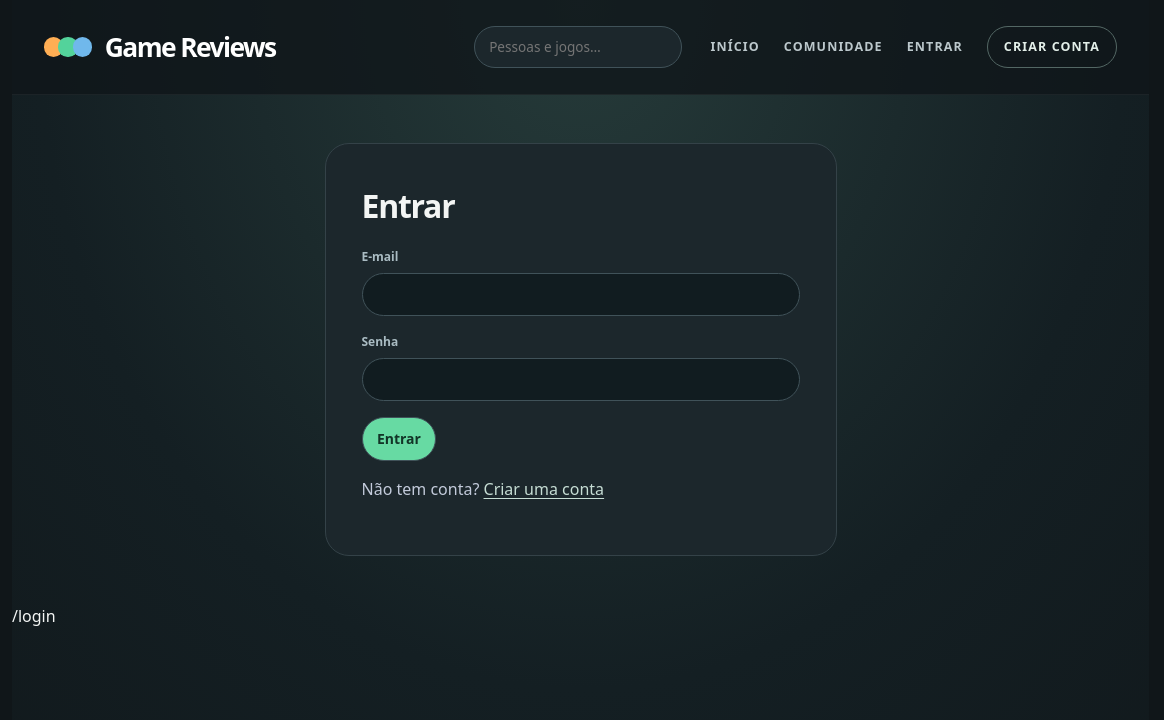
Tab fecha e invalida consulta pendente sem reabrir por resposta tardia
Type "mario" into the dropdown named "Buscar pessoas e jogos".
click(578, 47); type("mario")  # box [474,26,682,68]
Wait 300 ms
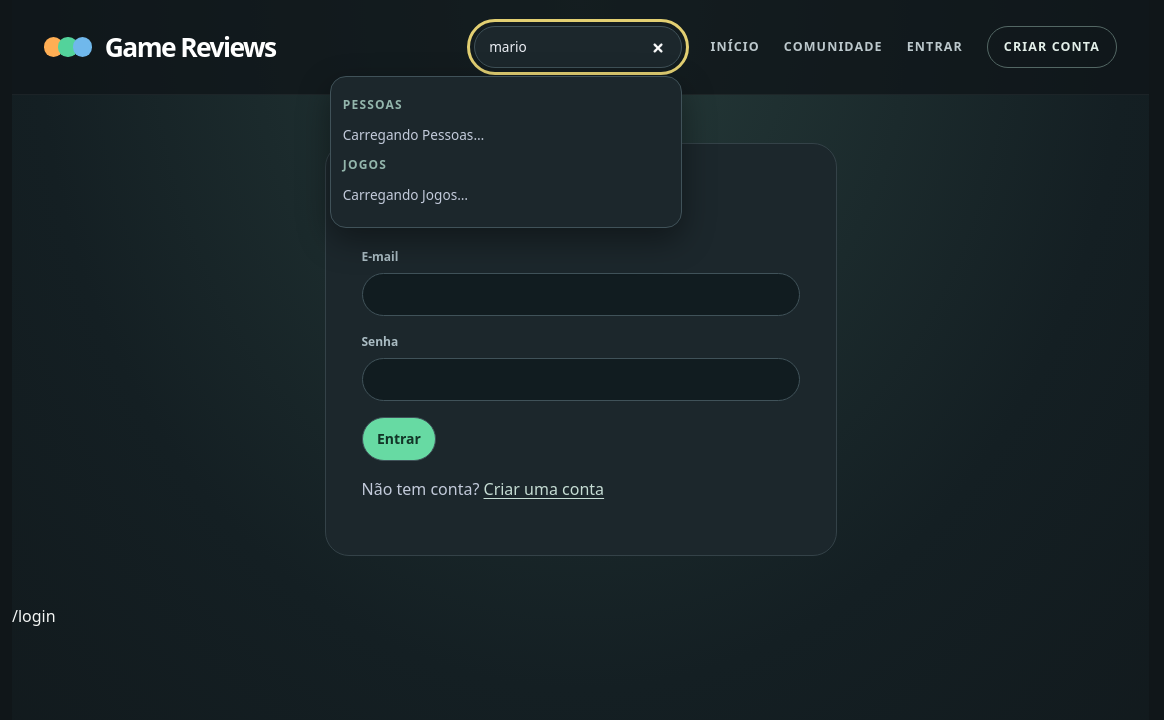
Press Tab
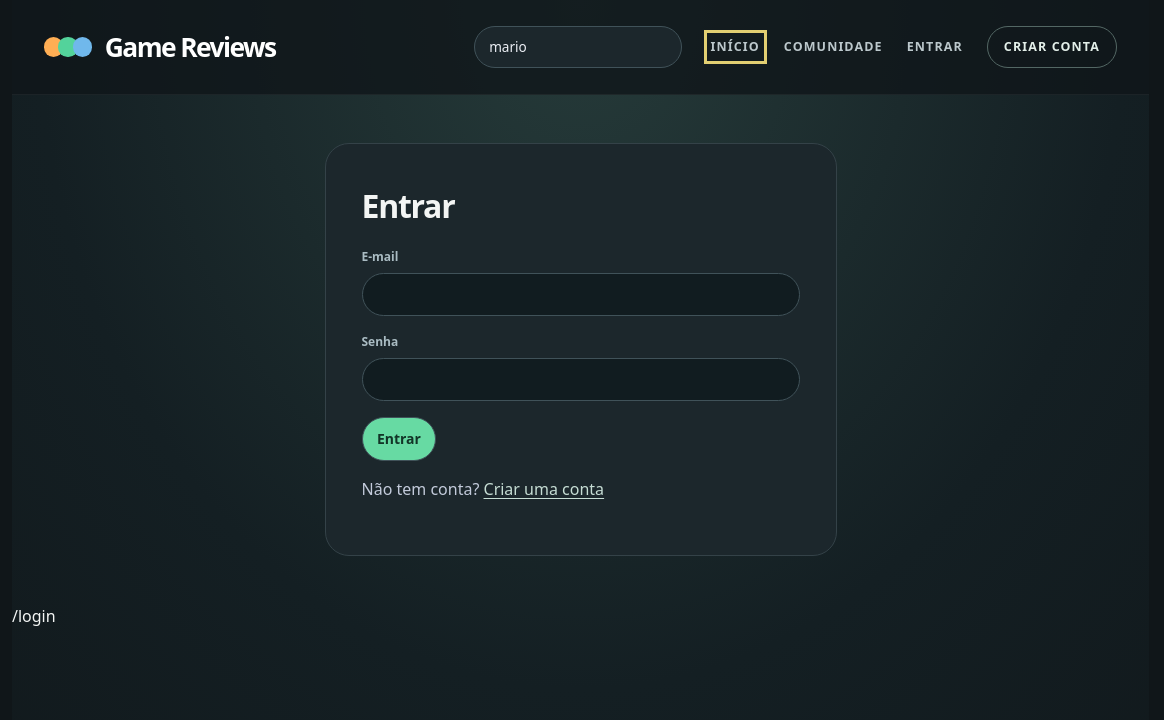
expect the dropdown named "Buscar pessoas e jogos" is collapsed: met, box [474,26,682,68]
expect the list is gone: met
